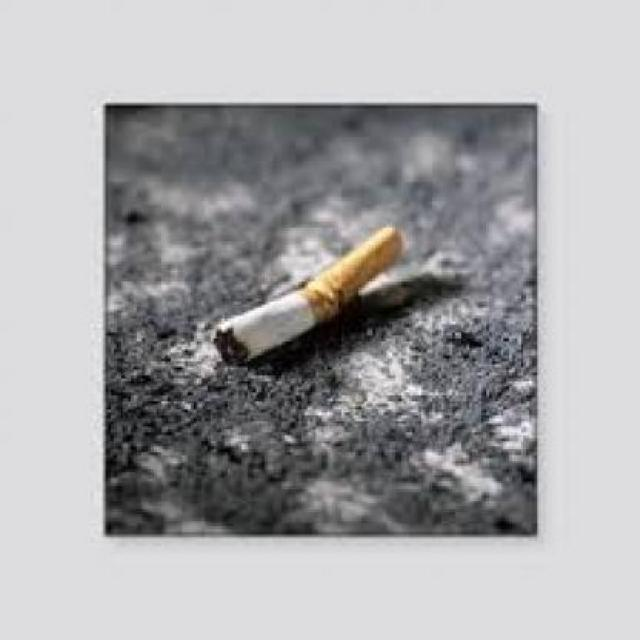cigarette: (196, 222, 441, 382)
